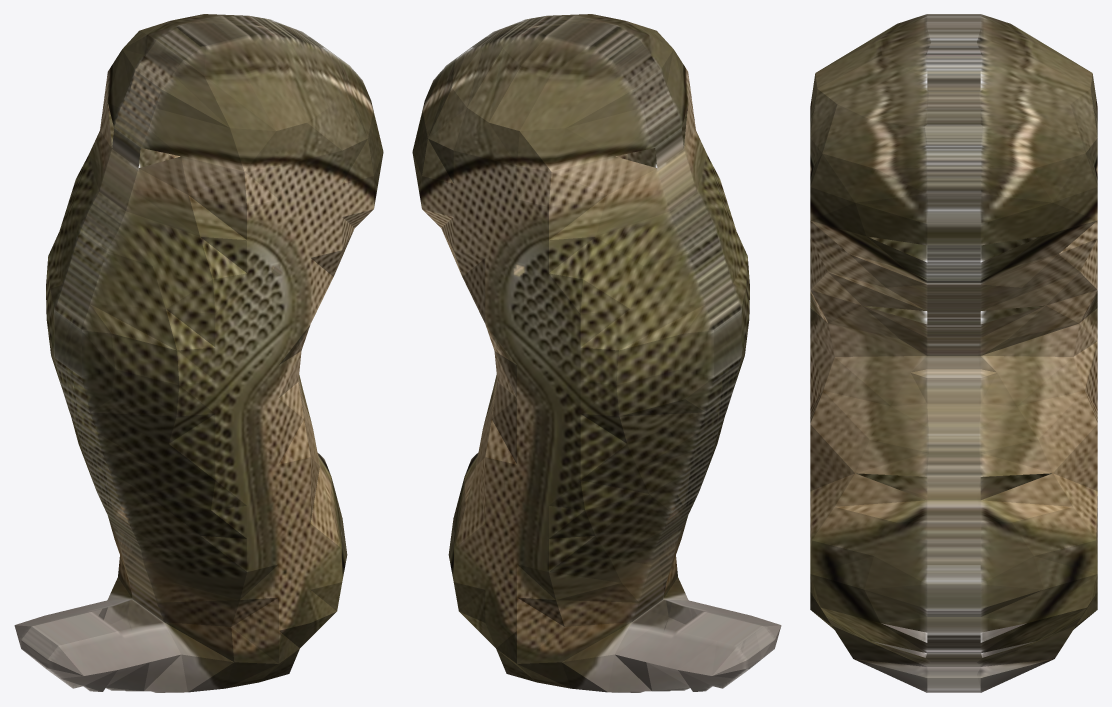
The model's file is sena-vantage-elbow-protector-166.glb.
3 views of the same model, side by side, from view 1: azimuth 30°, elevation 25°; view 2: azimuth 150°, elevation 25°; view 3: azimuth 270°, elevation 25° (orthographic).
Visible parts, largest first — view 1: world; view 2: world; view 3: world.
Part boxes in pixels (left/top/right/bottom): world: left=14, top=14, right=383, bottom=692; world: left=412, top=14, right=781, bottom=692; world: left=810, top=14, right=1097, bottom=692.
Size of the model in its own units: 0.5292 by 1 by 0.4.
Materials: 1 (1 with a texture image).
